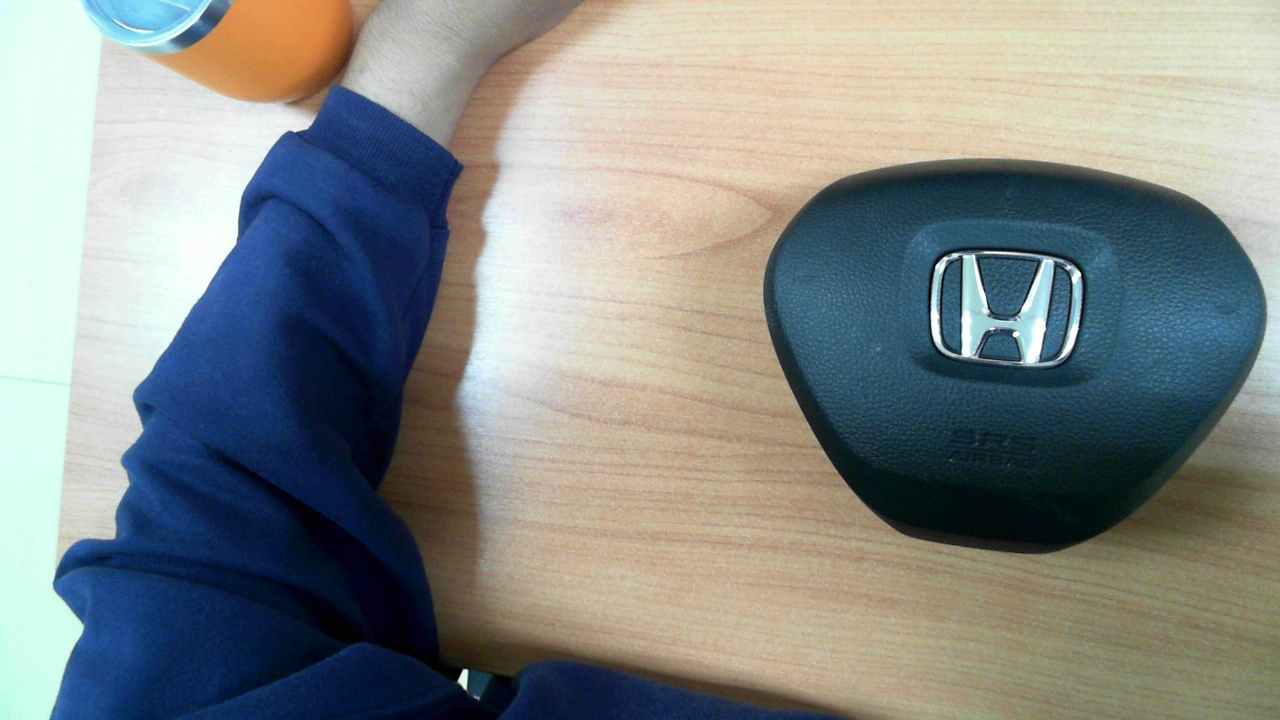Airbag: (764, 160, 1267, 554)
